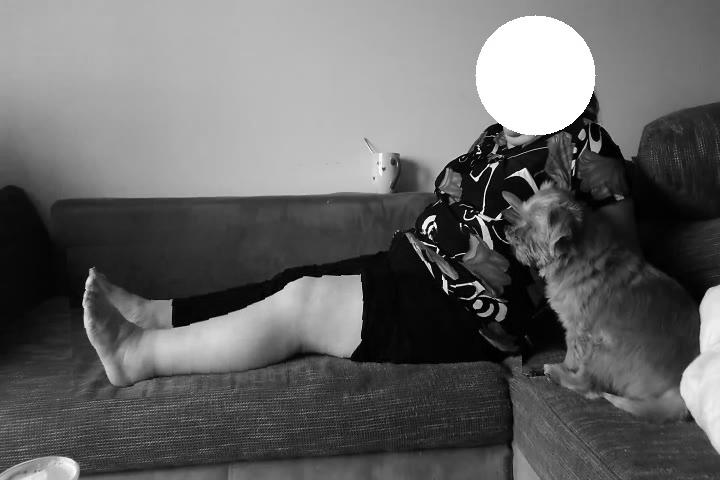lowerbody: (69, 231, 522, 396)
